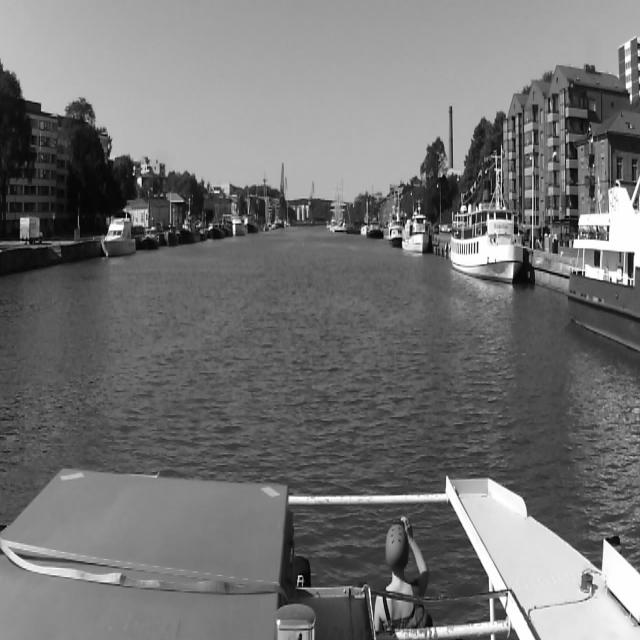ship: (565, 176, 640, 358), (449, 148, 524, 282), (402, 200, 429, 255), (100, 217, 136, 258), (388, 205, 402, 249), (142, 226, 160, 250), (232, 210, 246, 236), (163, 225, 181, 245), (367, 217, 381, 240), (246, 213, 258, 233), (344, 221, 360, 235)
